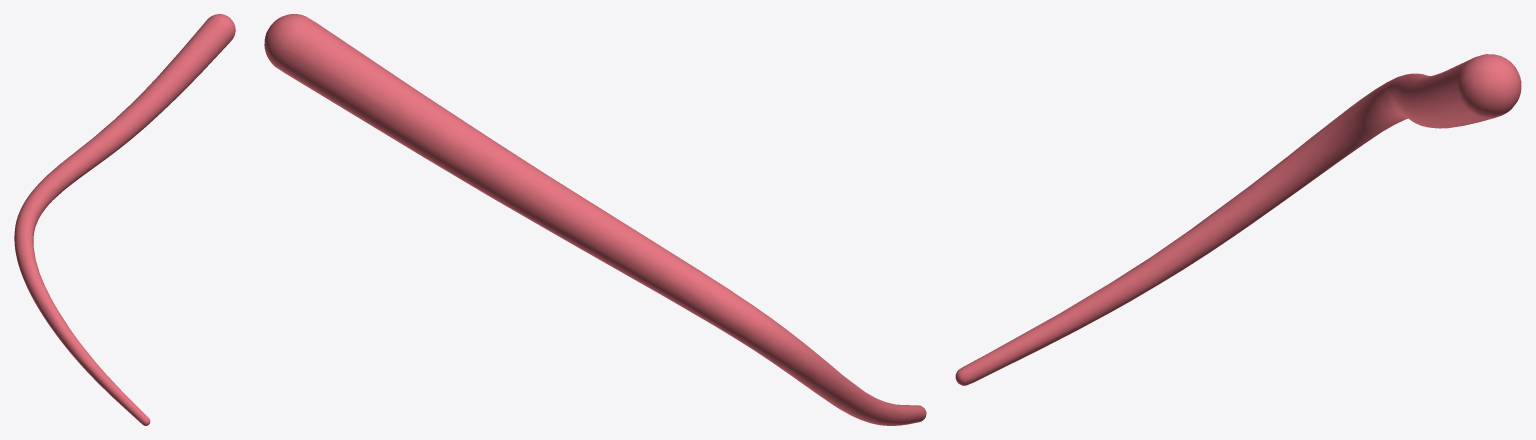
File: fma22588_fj2162.glb
3 views of the same model, side by side, from view 1: azimuth 30°, elevation 25°; view 2: azimuth 150°, elevation 25°; view 3: azimuth 270°, elevation 25° (orthographic). The views are drawn at different scales.
Parts seen in each view (by area): view 1: FMA22588_FJ2162; view 2: FMA22588_FJ2162; view 3: FMA22588_FJ2162.
Part boxes in pixels (x1,y1,x2,y2): FMA22588_FJ2162: (14,14,235,425); FMA22588_FJ2162: (264,14,926,425); FMA22588_FJ2162: (955,54,1521,385).
Bounding box in the file's own units: 0.0412 × 0.0406 × 0.0394.
